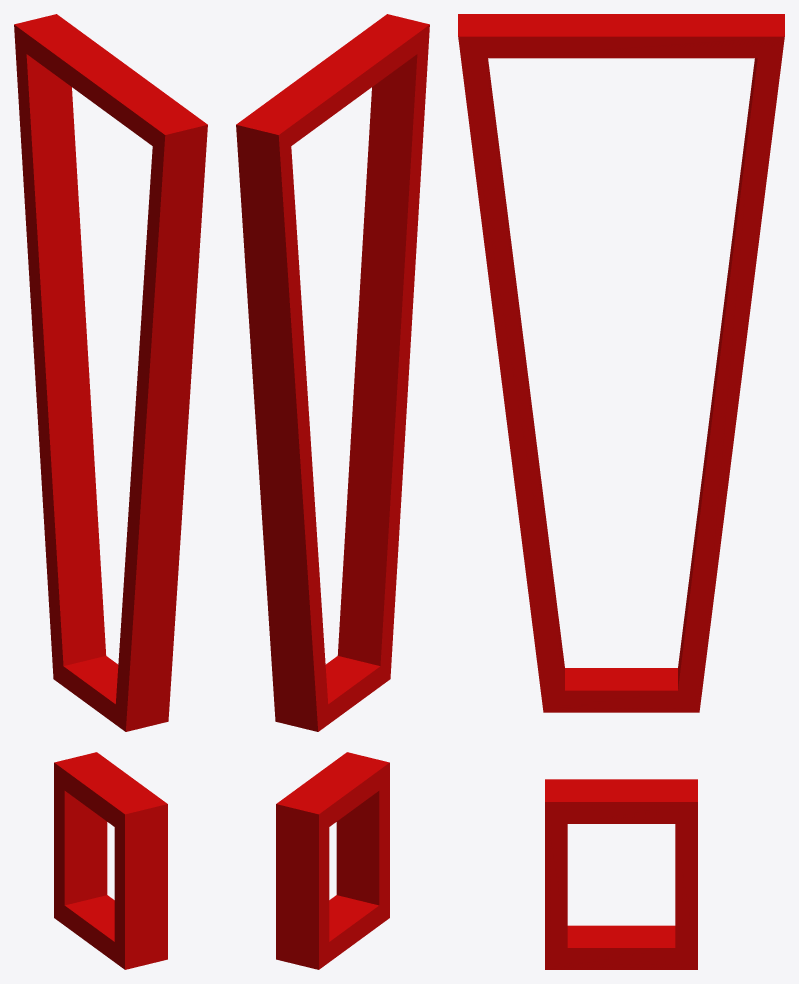
Rendered from exclamation_mark.fbx.
The picture shows the model from 3 angles, left to right: view 1: azimuth 30°, elevation 25°; view 2: azimuth 150°, elevation 25°; view 3: azimuth 270°, elevation 25°; orthographic projection. The views are drawn at different scales.
Visible parts, largest first — view 1: pCube3; view 2: pCube3; view 3: pCube3.
Part boxes in pixels (box(x1,y1,x2,y2)): pCube3: box(14, 14, 207, 969); pCube3: box(236, 14, 429, 969); pCube3: box(458, 14, 784, 969).
Size of the model in its own units: 0.0924 by 1.79 by 0.5667.
